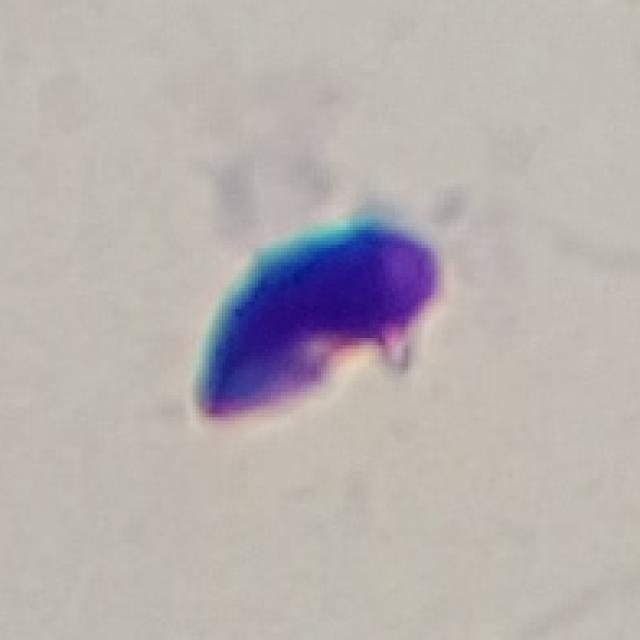non-sperm: (184, 215, 459, 432)
